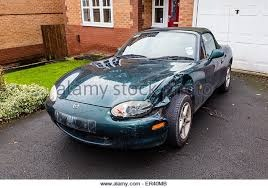Dent: (145, 71, 195, 113)
Scratch: (116, 116, 157, 135)
